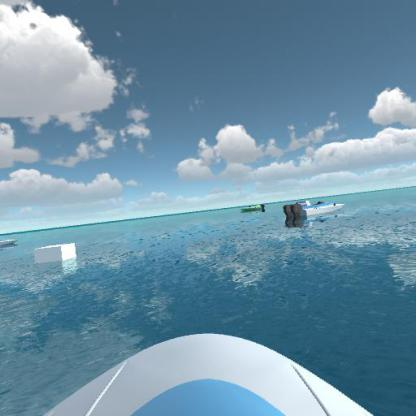usv0: (235, 199, 268, 216)
usv1: (282, 196, 349, 225), (0, 235, 21, 248)
